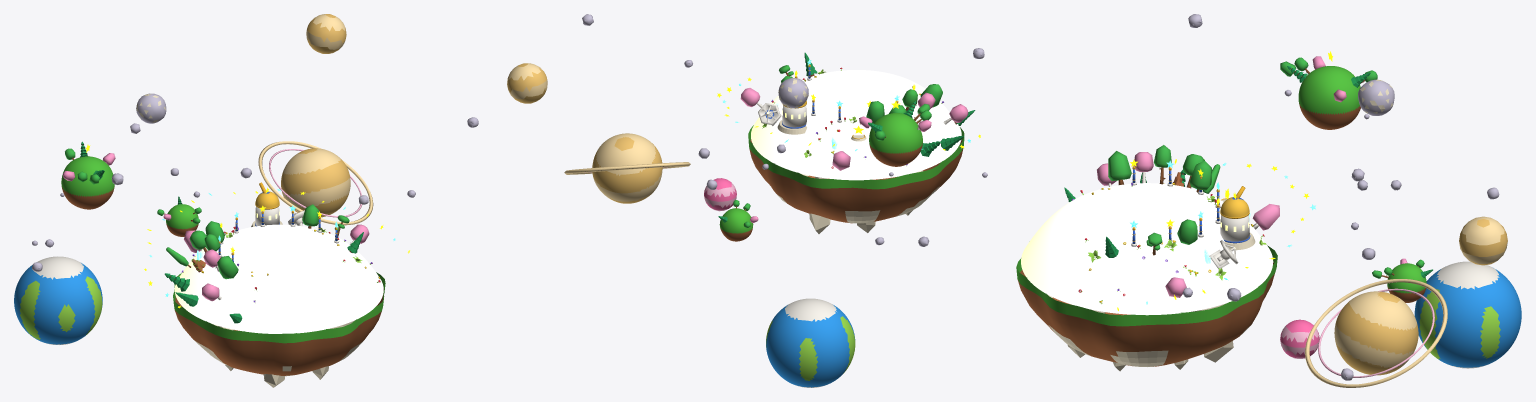
The picture shows the model from 3 angles, left to right: view 1: azimuth 30°, elevation 25°; view 2: azimuth 150°, elevation 25°; view 3: azimuth 270°, elevation 25°; orthographic projection. The views are drawn at different scales.
Parts seen in each view (by area): view 1: decor, sol; view 2: decor, sol; view 3: decor, sol.
Part boxes in pixels (box(x1,y1,x2,y2)): decor: box(14, 14, 478, 387); sol: box(174, 224, 383, 333); decor: box(507, 14, 987, 387); sol: box(751, 70, 961, 180); decor: box(1016, 14, 1521, 387); sol: box(1021, 183, 1273, 315).
Size of the model in its own units: 77.09 by 45.75 by 66.11.
